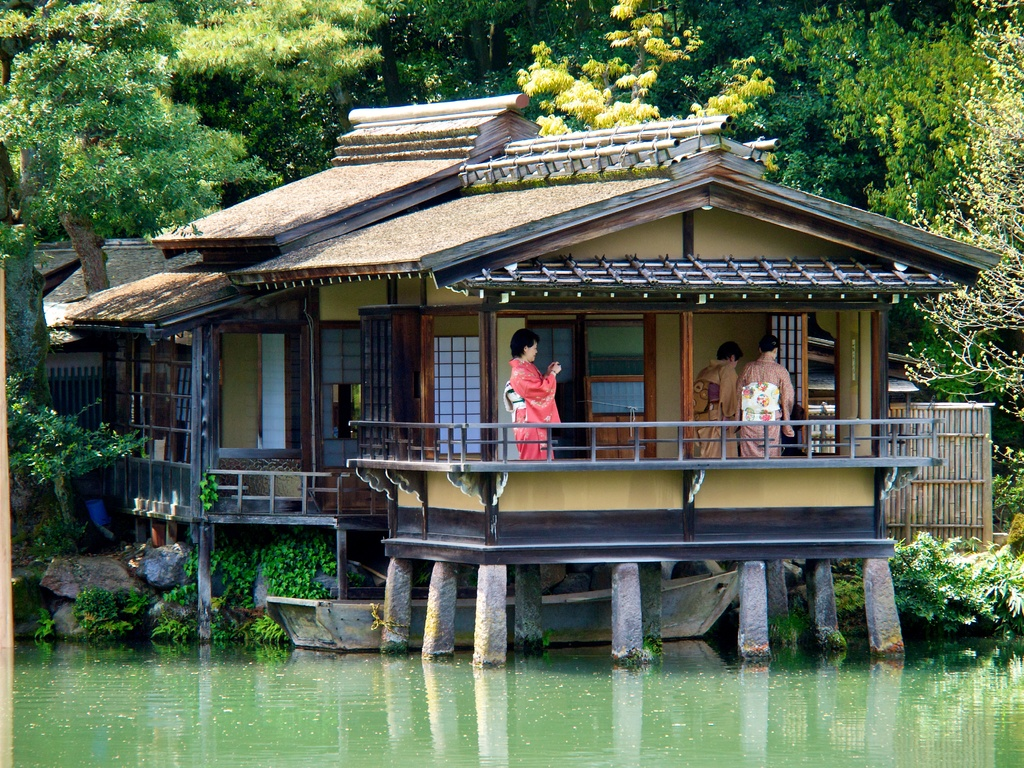Tree: (0, 0, 1024, 554)
